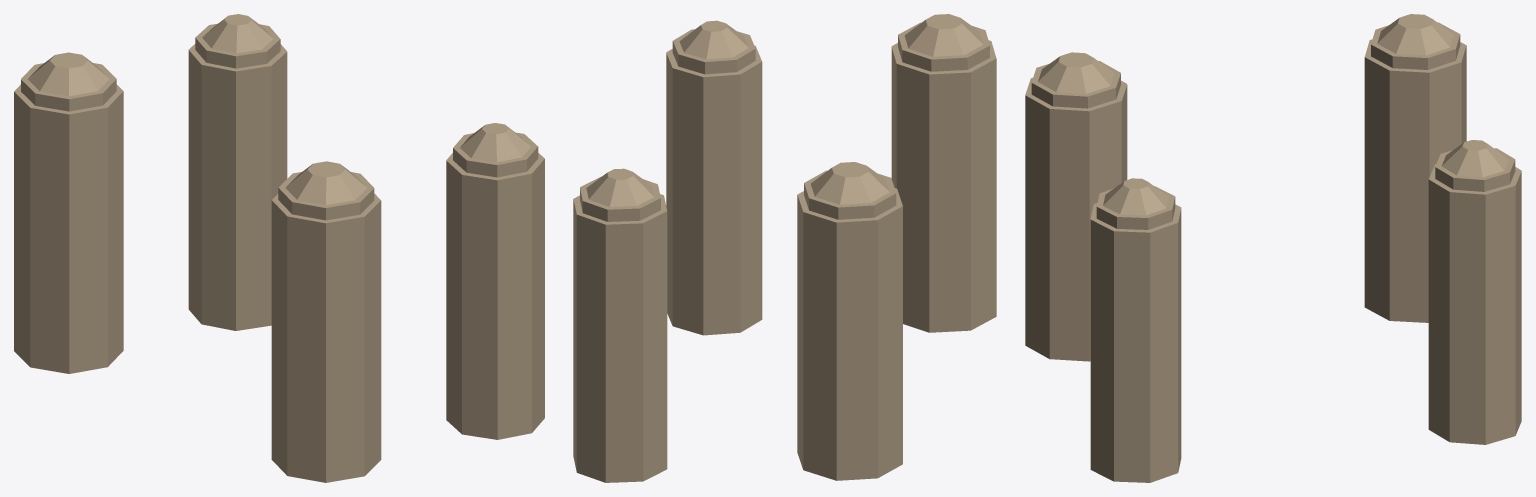
File: vitremoduleC.fbx
3 views of the same model, side by side, from view 1: azimuth 30°, elevation 25°; view 2: azimuth 150°, elevation 25°; view 3: azimuth 270°, elevation 25° (orthographic). The views are drawn at different scales.
Parts seen in each view (by area): view 1: polySurface409; view 2: polySurface409; view 3: polySurface409.
Part boxes in pixels (<box>): polySurface409: <box>14,14,544,482</box>; polySurface409: <box>573,14,996,482</box>; polySurface409: <box>1025,14,1521,482</box>.
Size of the model in its own units: 139 by 116 by 169.
